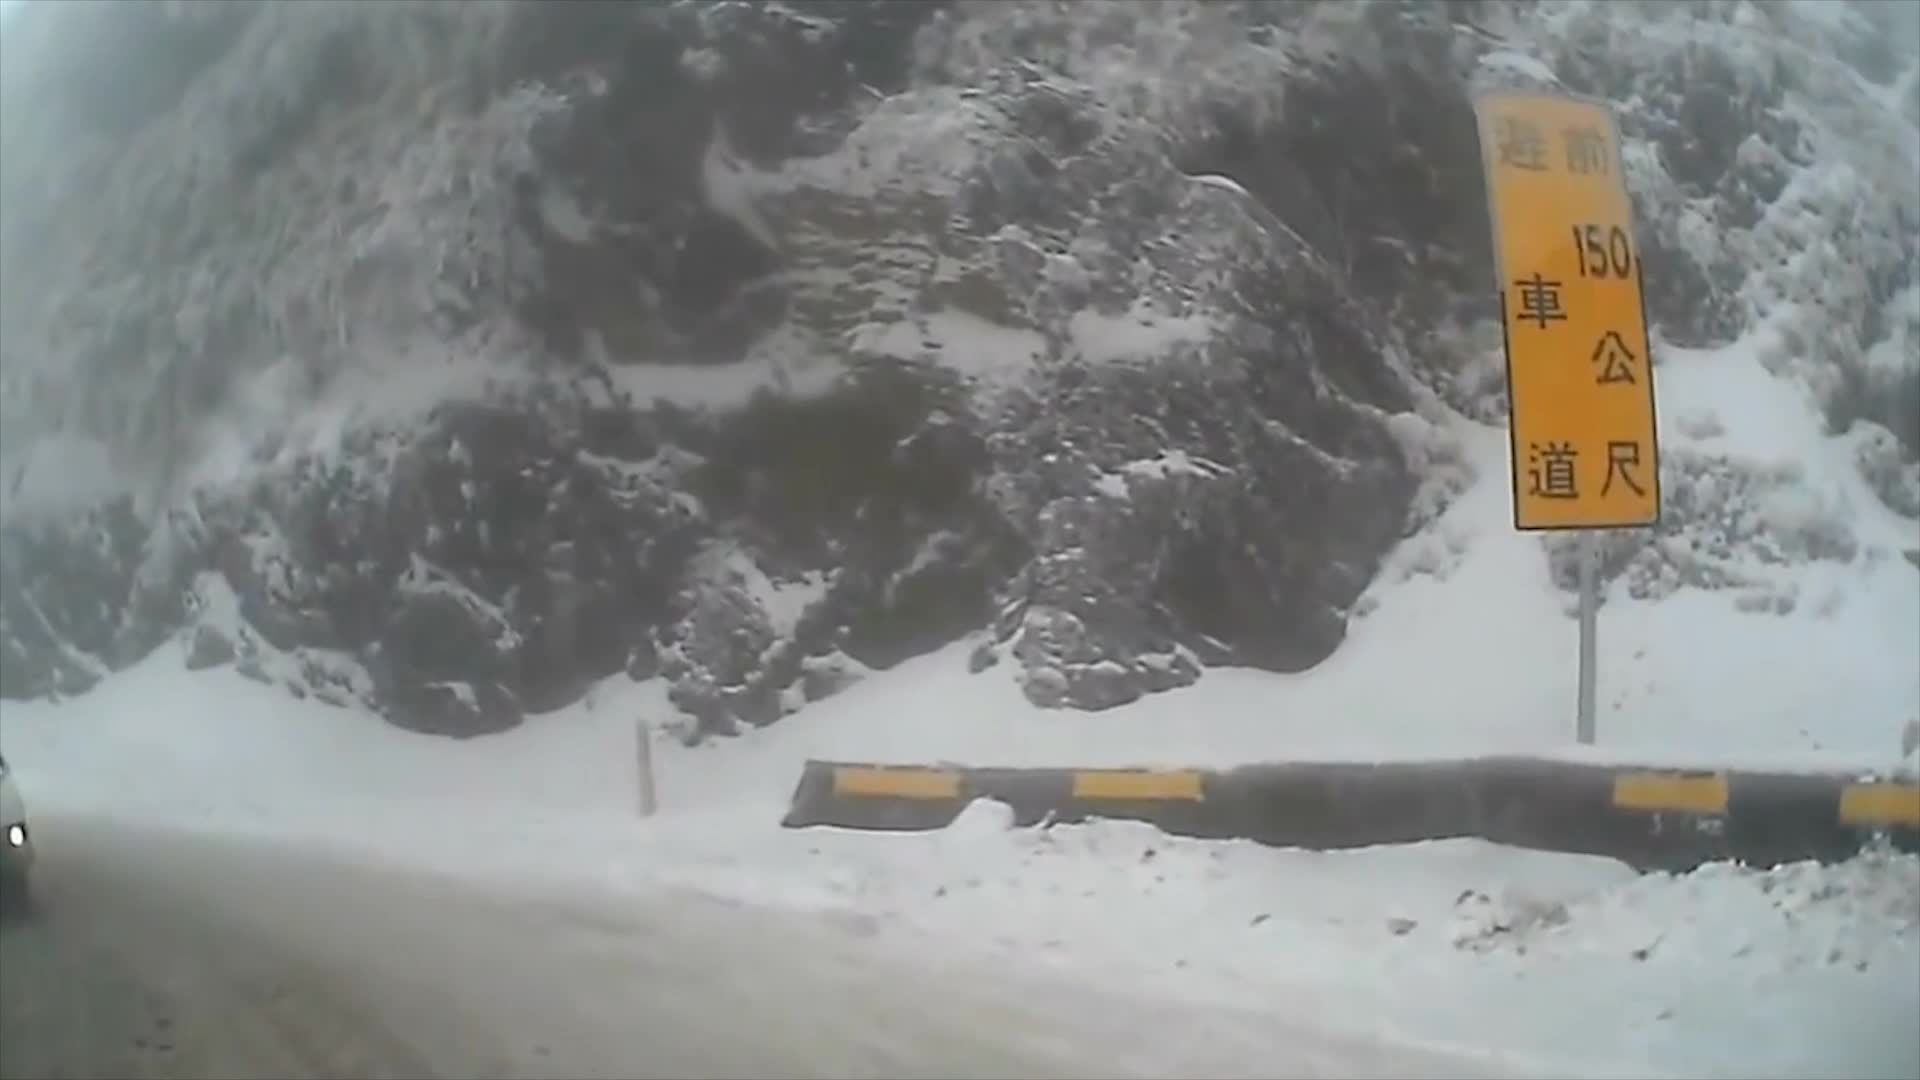vehicle: (0, 760, 33, 915)
